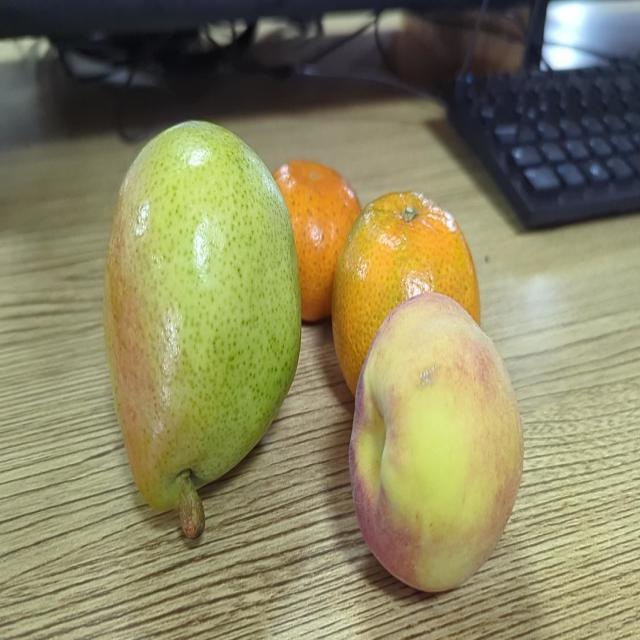Jeruk Mandarin: (339, 186, 486, 348), (271, 146, 359, 327)
Persik: (346, 292, 530, 598)
Pir: (108, 118, 304, 546)
